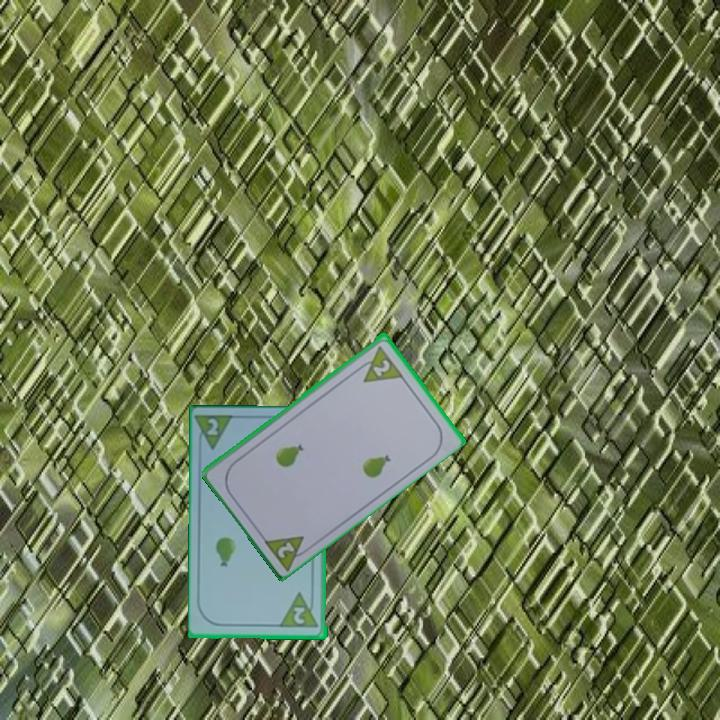2p: (278, 590, 322, 631), (194, 413, 238, 454), (369, 355, 393, 379), (274, 538, 298, 561)
